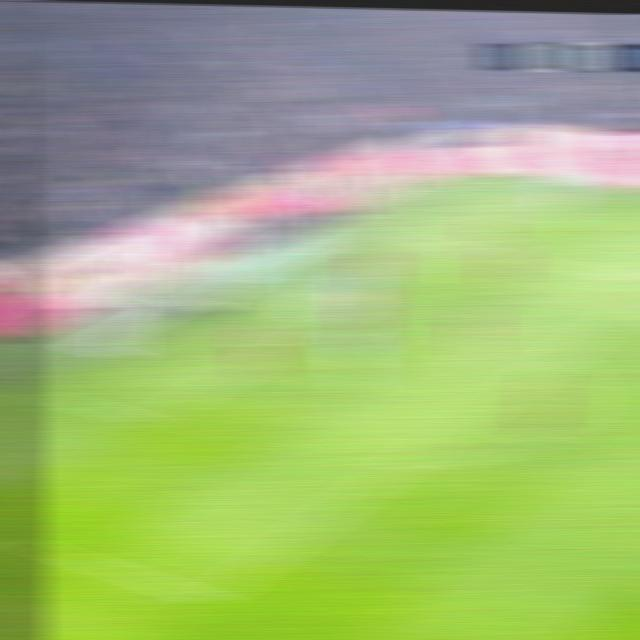bigarea_bottom_inner: (186, 582, 234, 615)
bigarea_top_outter: (366, 221, 405, 240)
bottom_arc_area_intersection: (380, 451, 422, 478)
corner: (479, 171, 519, 187)
smallarea_bottom_inner: (124, 404, 170, 435)
smallarea_bottom_outter: (22, 377, 63, 405)
smallarea_top_outter: (259, 271, 299, 292)
top_arc_area_intersection: (539, 346, 580, 368)
